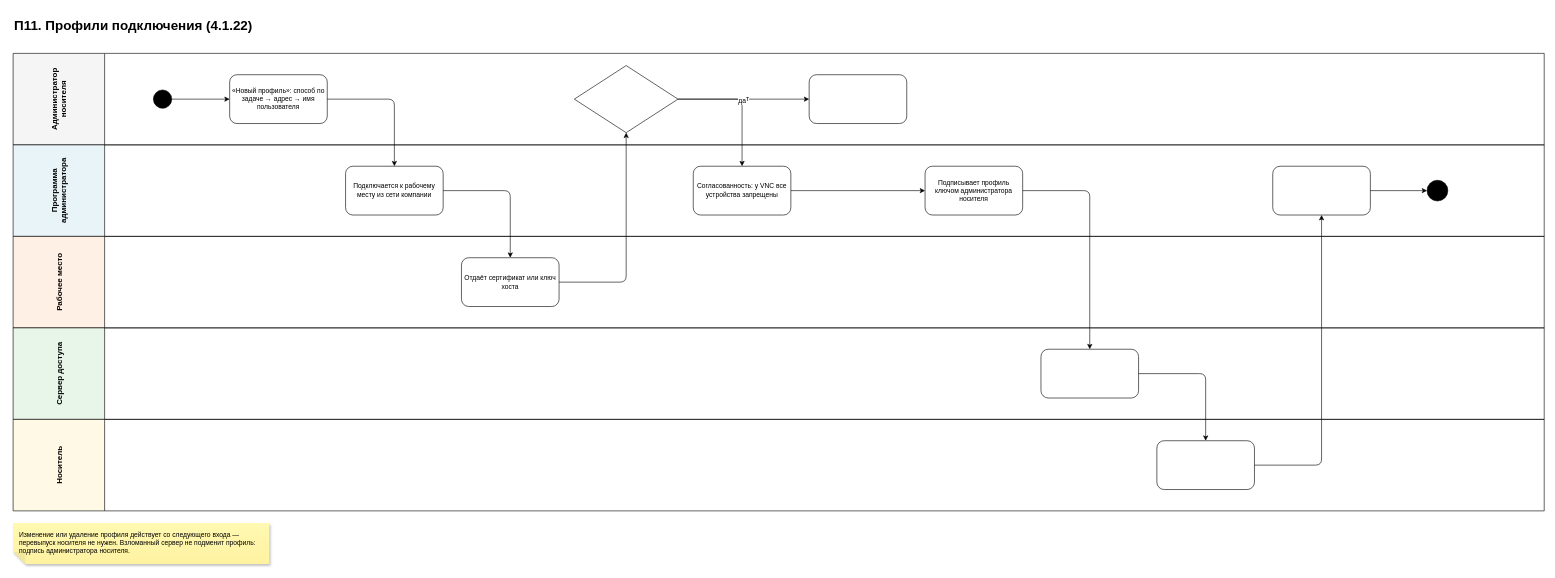
Image size: 1555x578. Some labels were removed from this diagram. The centre of each missing label's shape, as x and y in pixels:
"Ввести отпечаток вручную или разобраться" goes at point (858, 99).
"Отпечаток совпал с машиной?" goes at point (626, 99).
"По сроку сертификата заранее предупреждает об устаревании" goes at point (1321, 190).
"Хранит (только здесь); назначение своим носителям или группам" goes at point (1089, 373).
"Этап 2, через туннель: получает профили, проверяет подпись, держит в памяти" goes at point (1205, 465).
